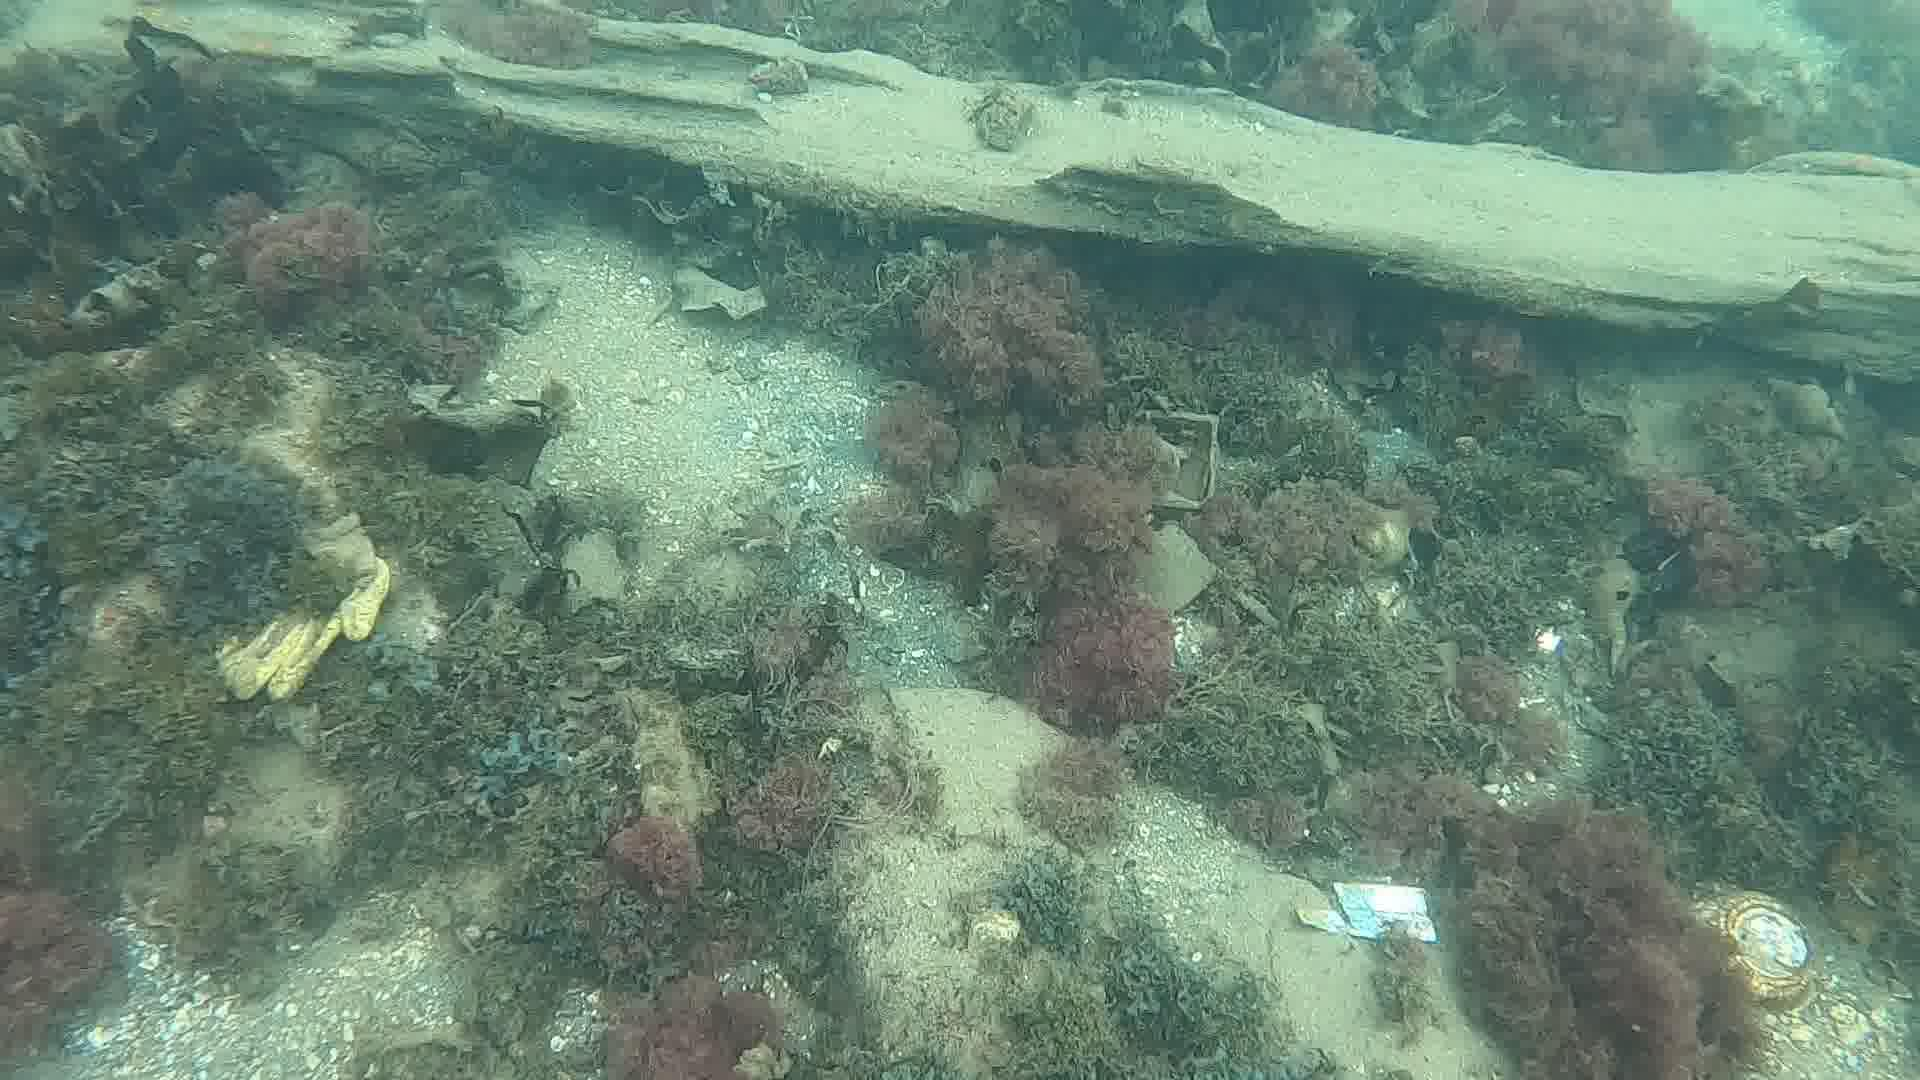wood: (69, 0, 1920, 389)
